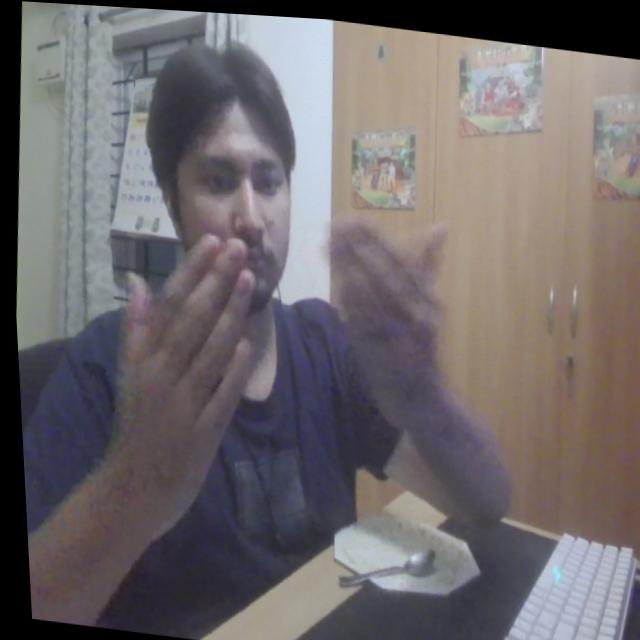thankyou: (90, 174, 470, 560)
